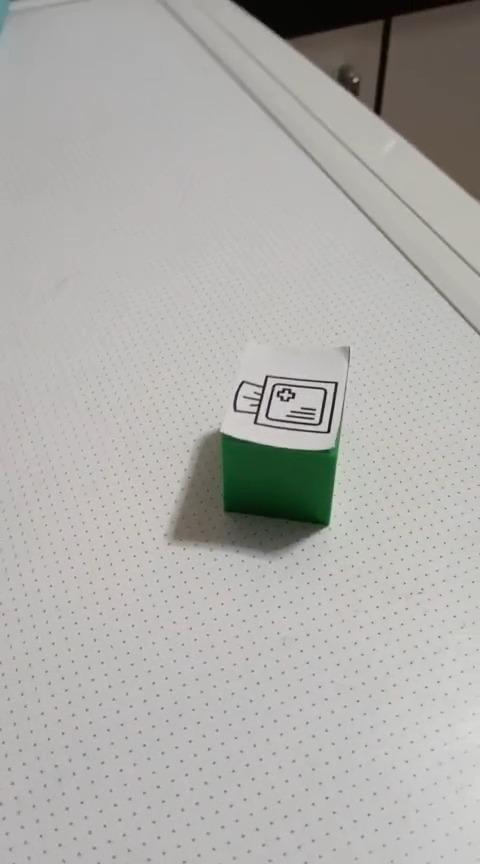Gauze: (218, 340, 350, 526)
